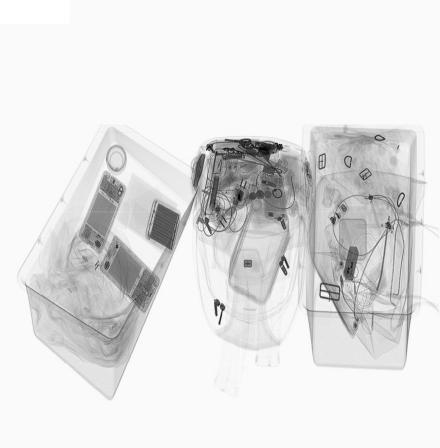Powerbank: (145, 198, 182, 254)
